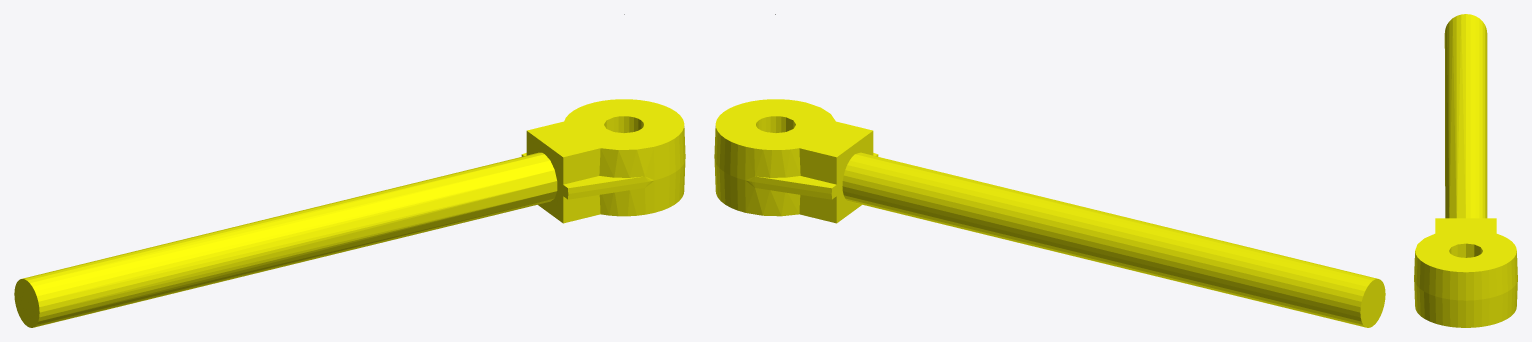
The picture shows the model from 3 angles, left to right: view 1: azimuth 30°, elevation 25°; view 2: azimuth 150°, elevation 25°; view 3: azimuth 270°, elevation 25°; orthographic projection. The views are drawn at different scales.
Visible parts, largest first — view 1: node; view 2: node; view 3: node.
Part boxes in pixels (bbox=[...]): node: bbox=[14, 14, 685, 327]; node: bbox=[714, 14, 1385, 327]; node: bbox=[1414, 14, 1517, 327].
Bounding box in the file's own units: 596 × 155 × 98.
